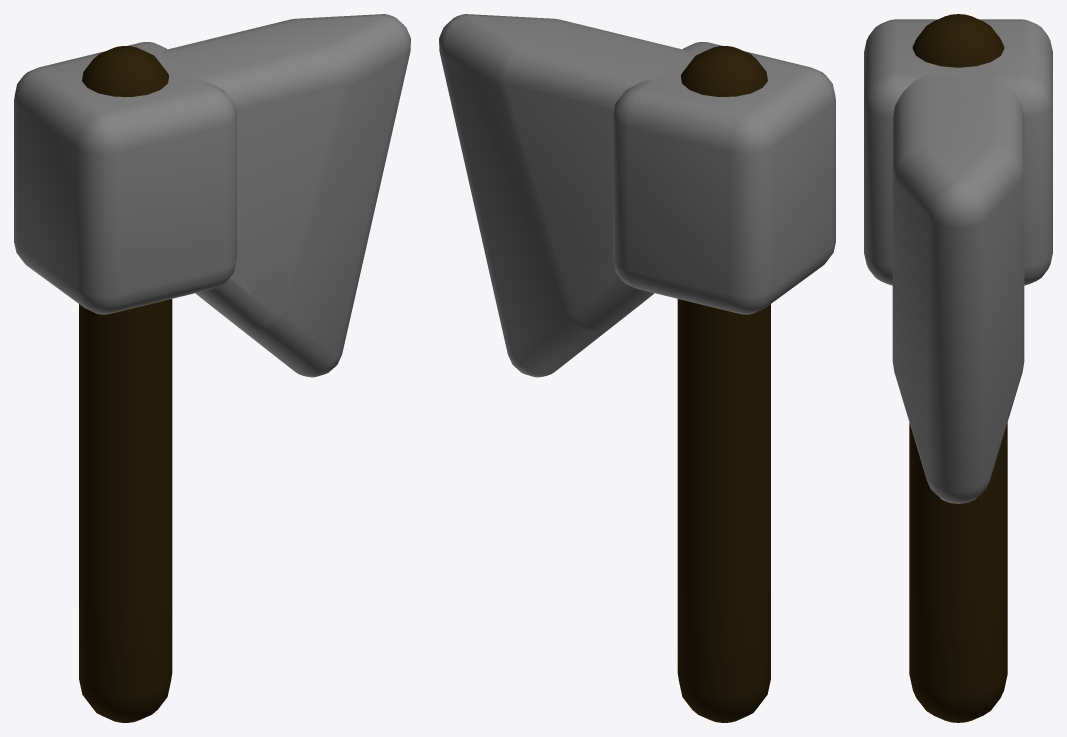
Rendered from Golden_Axe.fbx.
The picture shows the model from 3 angles, left to right: view 1: azimuth 30°, elevation 25°; view 2: azimuth 150°, elevation 25°; view 3: azimuth 270°, elevation 25°; orthographic projection. The views are drawn at different scales.
Visible parts, largest first — view 1: Tool_Axe001, Handle001; view 2: Tool_Axe001, Handle001; view 3: Tool_Axe001, Handle001.
Boxes of the visible parts, x1,y1,x2,y2 form: Tool_Axe001: (14, 14, 410, 377); Handle001: (79, 46, 172, 722); Tool_Axe001: (439, 14, 835, 377); Handle001: (677, 46, 770, 722); Tool_Axe001: (864, 19, 1052, 503); Handle001: (909, 14, 1007, 722).
Size of the model in its own units: 31.53 by 55.96 by 13.69.
